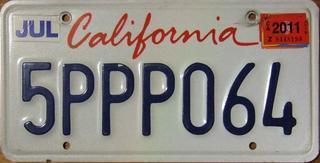placa de veiculo: (5, 2, 310, 161)
